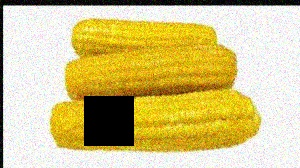corn: (46, 87, 263, 151), (65, 46, 237, 98), (71, 19, 218, 72)
